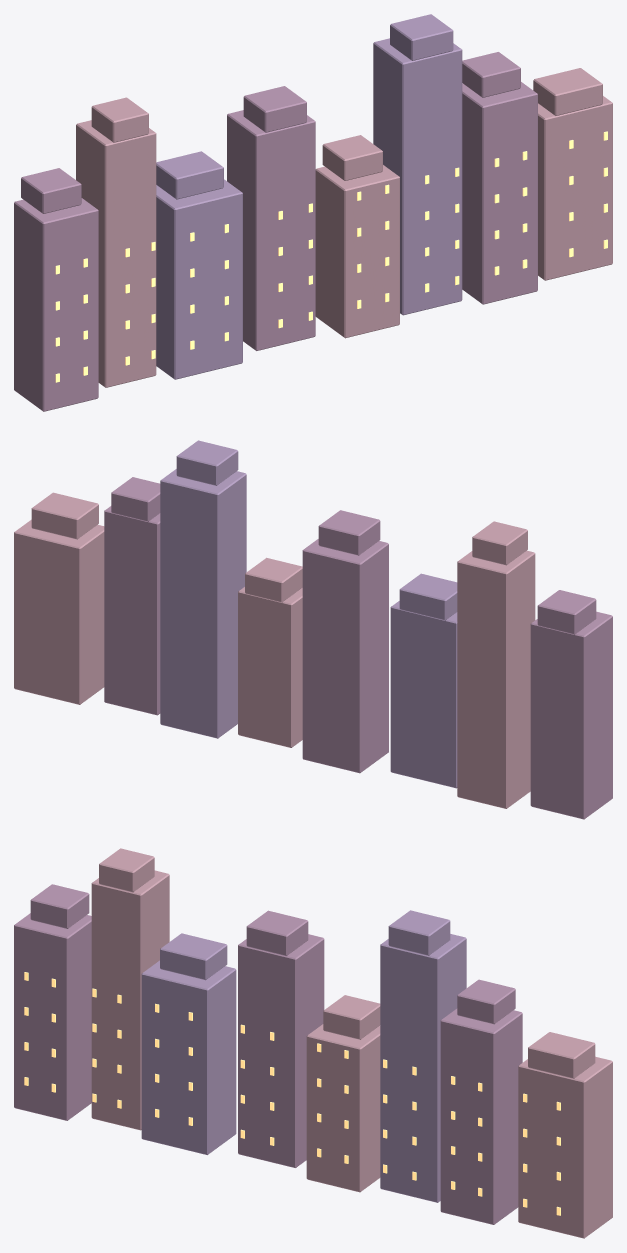
File: tpe_distant_skyline.glb
3 renders of one model, top to bottom at view 1: azimuth 30°, elevation 25°; view 2: azimuth 150°, elevation 25°; view 3: azimuth 330°, elevation 25°, orthographic. The views are drawn at different scales.
Visible parts, largest first — view 1: tpe_distant_skyline__distant-mauve, tpe_distant_skyline__distant-pink, tpe_distant_skyline__distant-lilac, tpe_distant_skyline__warm-window; view 2: tpe_distant_skyline__distant-mauve, tpe_distant_skyline__distant-pink, tpe_distant_skyline__distant-lilac; view 3: tpe_distant_skyline__distant-mauve, tpe_distant_skyline__distant-pink, tpe_distant_skyline__distant-lilac, tpe_distant_skyline__warm-window.
Part boxes in pixels (x1=…): tpe_distant_skyline__distant-mauve: x1=14, y1=52, x2=537, y2=411; tpe_distant_skyline__distant-pink: x1=76, y1=68, x2=612, y2=387; tpe_distant_skyline__distant-lilac: x1=156, y1=14, x2=462, y2=379; tpe_distant_skyline__warm-window: x1=55, y1=131, x2=607, y2=382; tpe_distant_skyline__distant-mauve: x1=104, y1=477, x2=612, y2=819; tpe_distant_skyline__distant-pink: x1=14, y1=492, x2=535, y2=808; tpe_distant_skyline__distant-lilac: x1=160, y1=440, x2=457, y2=788; tpe_distant_skyline__distant-mauve: x1=14, y1=884, x2=522, y2=1224; tpe_distant_skyline__distant-pink: x1=91, y1=848, x2=612, y2=1238; tpe_distant_skyline__distant-lilac: x1=141, y1=910, x2=466, y2=1202; tpe_distant_skyline__warm-window: x1=24, y1=972, x2=560, y2=1215.
Bounding box in the file's own units: 129 × 58.13 × 15.22.
